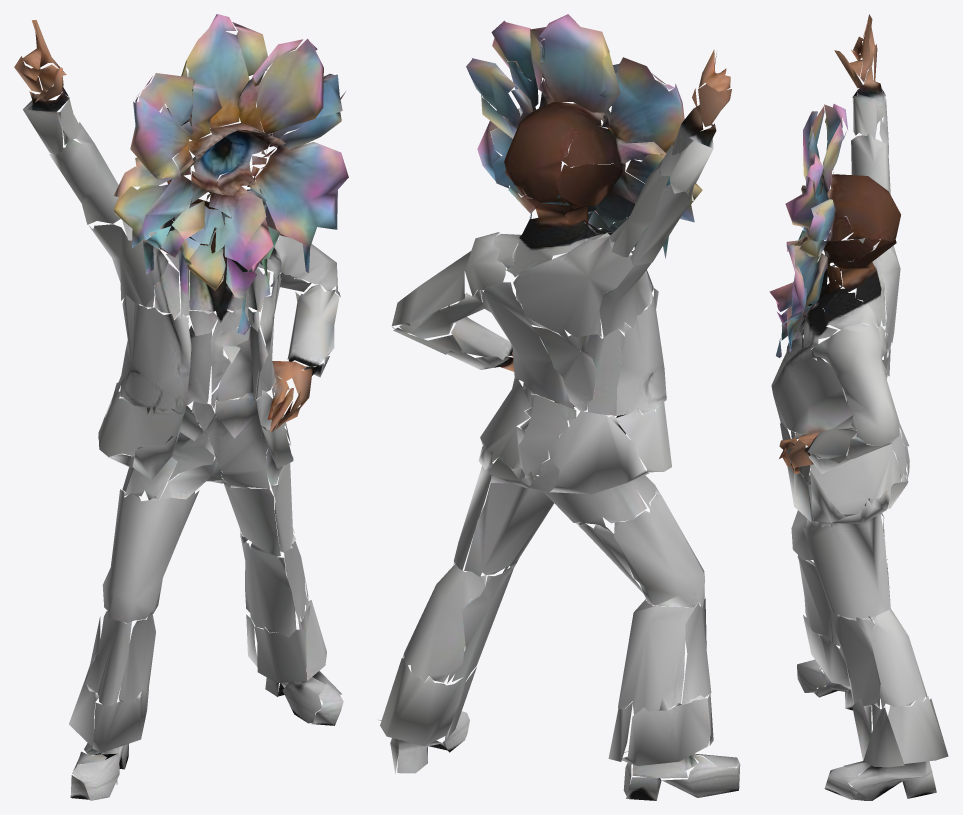
File: cast_discoking.glb
3 renders of one model, left to right at view 1: azimuth 30°, elevation 25°; view 2: azimuth 150°, elevation 25°; view 3: azimuth 270°, elevation 25°, orthographic. The views are drawn at different scales.
Visible parts, largest first — view 1: tripo_node_b34096fa-347c-4600-b127-7b8cc124b146; view 2: tripo_node_b34096fa-347c-4600-b127-7b8cc124b146; view 3: tripo_node_b34096fa-347c-4600-b127-7b8cc124b146.
Boxes of the visible parts, x1,y1,x2,y2 form: tripo_node_b34096fa-347c-4600-b127-7b8cc124b146: (14,14,348,800); tripo_node_b34096fa-347c-4600-b127-7b8cc124b146: (377,14,740,800); tripo_node_b34096fa-347c-4600-b127-7b8cc124b146: (769,14,948,800).
Size of the model in its own units: 0.4441 by 0.996 by 0.2444.
Materials: 1 (1 with a texture image).
